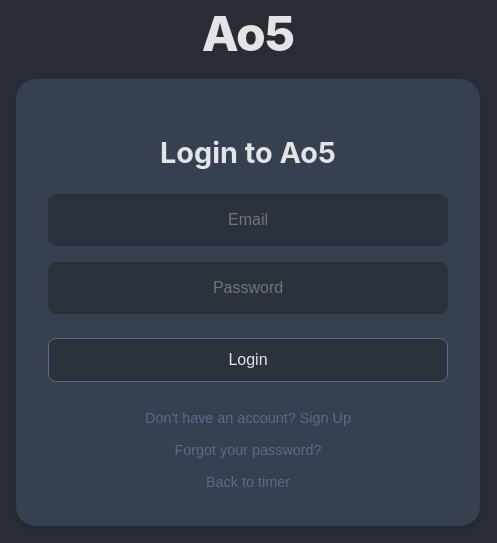
Test: Auth modes › switches to signup mode via link
Click the button "Don't have an account? Sign Up". click: point(248, 418)
box: [48,406,448,430]
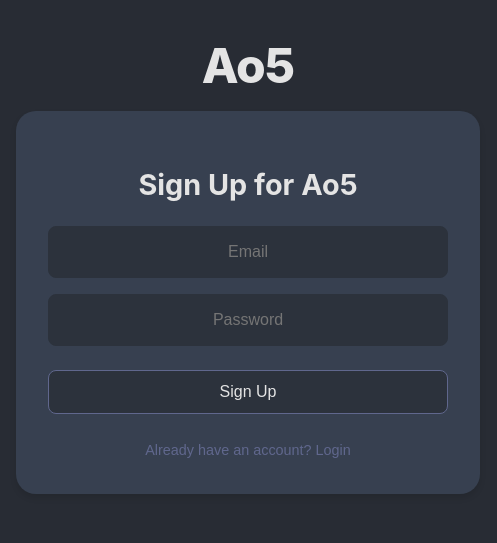
Expected: the heading "Sign Up for Ao5" is shown, [138,167,358,202]
Expected: the button "Sign Up" is shown, [48,370,448,414]
